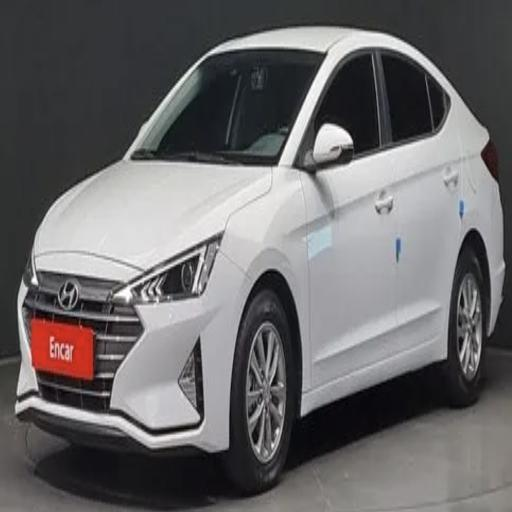normal: (11, 0, 512, 502)
